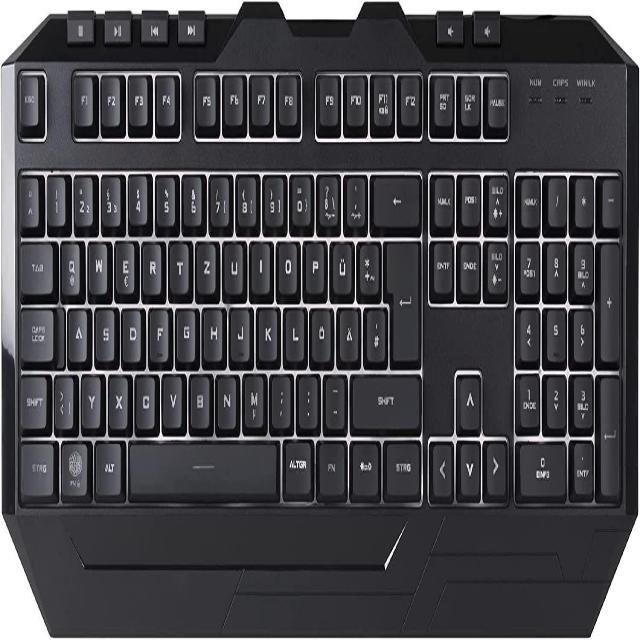0: (288, 167, 313, 227)
1: (45, 171, 66, 226)
2: (72, 167, 93, 227)
3: (100, 171, 122, 227)
4: (127, 168, 148, 225)
5: (154, 168, 177, 227)
6: (180, 167, 204, 227)
7: (208, 167, 230, 227)
8: (234, 170, 257, 229)
9: (261, 171, 285, 227)
a: (66, 302, 87, 361)
accent: (342, 169, 366, 228)
ae: (336, 300, 359, 361)
alt-left: (93, 434, 122, 495)
altgr-right: (281, 433, 313, 496)
b: (187, 368, 211, 427)
c: (134, 368, 156, 427)
caret: (19, 167, 39, 226)
comma: (269, 368, 291, 427)
d: (121, 302, 142, 360)
del: (499, 55, 626, 166), (370, 168, 420, 228)
e: (113, 234, 135, 295)
enter: (383, 231, 419, 362)
f: (147, 301, 168, 360)
g: (174, 301, 195, 360)
h: (201, 301, 223, 360)
hash: (363, 300, 386, 361)
i: (248, 236, 270, 292)
j: (228, 300, 250, 360)
k: (255, 300, 278, 360)
keyboard: (0, 2, 638, 638)
l: (282, 300, 304, 360)
less: (52, 368, 73, 428)
m: (241, 367, 265, 428)
minus: (323, 368, 345, 428)
n: (215, 369, 237, 428)
o: (275, 236, 298, 293)
oe: (309, 301, 332, 361)
p: (302, 234, 325, 293)
plus: (356, 234, 380, 297)
point: (296, 368, 318, 426)
q: (59, 235, 80, 295)
r: (140, 235, 162, 294)
s: (93, 301, 115, 360)
shift-left: (18, 368, 47, 428)
shift-lock: (19, 302, 54, 361)
shift-right: (350, 368, 420, 429)
space: (127, 435, 279, 499)
ss: (315, 171, 340, 227)
strg-left: (18, 434, 55, 496)
strg-right: (382, 433, 421, 497)
t: (167, 234, 189, 293)
tab: (19, 235, 53, 294)
u: (221, 235, 244, 294)
ue: (330, 235, 353, 294)
v: (161, 368, 183, 427)
w: (87, 236, 108, 293)
x: (107, 368, 129, 427)
y: (80, 368, 101, 427)
z: (194, 236, 216, 293)
